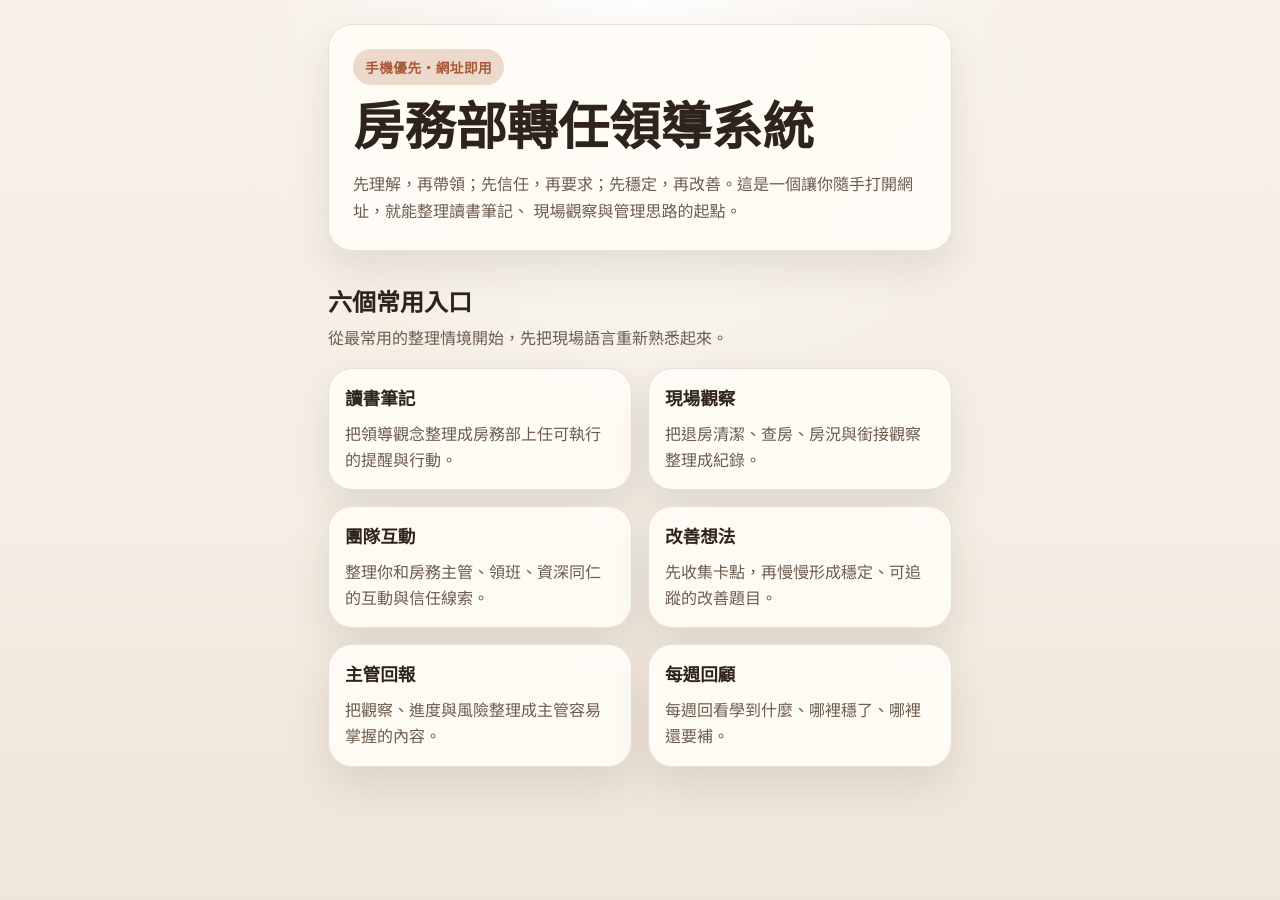
Scenario: HomePage › navigates to the real entry page
Click the link "讀書筆記 把領導觀念整理成房務部上任可執行的提醒與行動。".
click(480, 429)  # box 328,368 -> 632,490
(page scrolled)
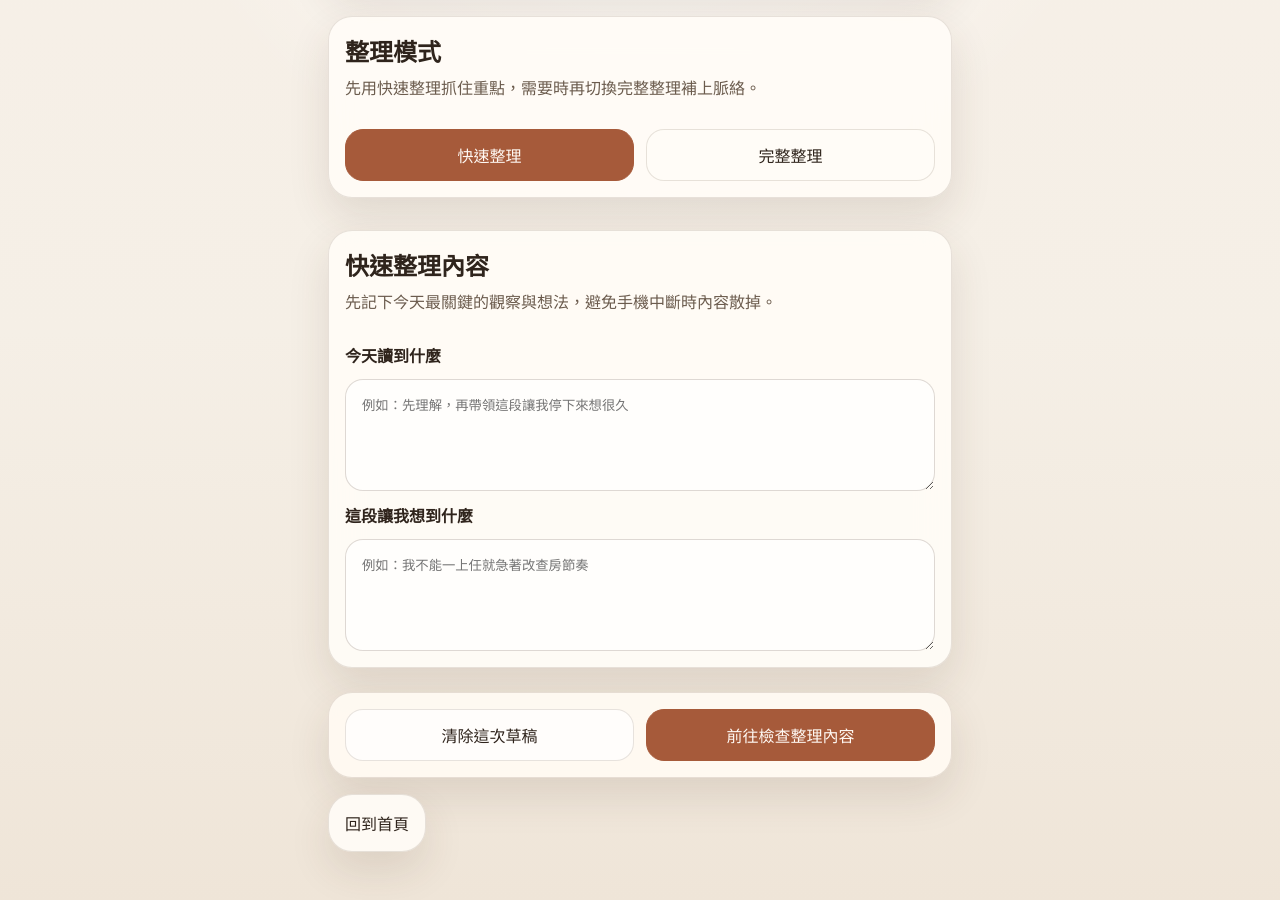
Expected: the button "快速整理" is shown, 345,129 -> 634,181
